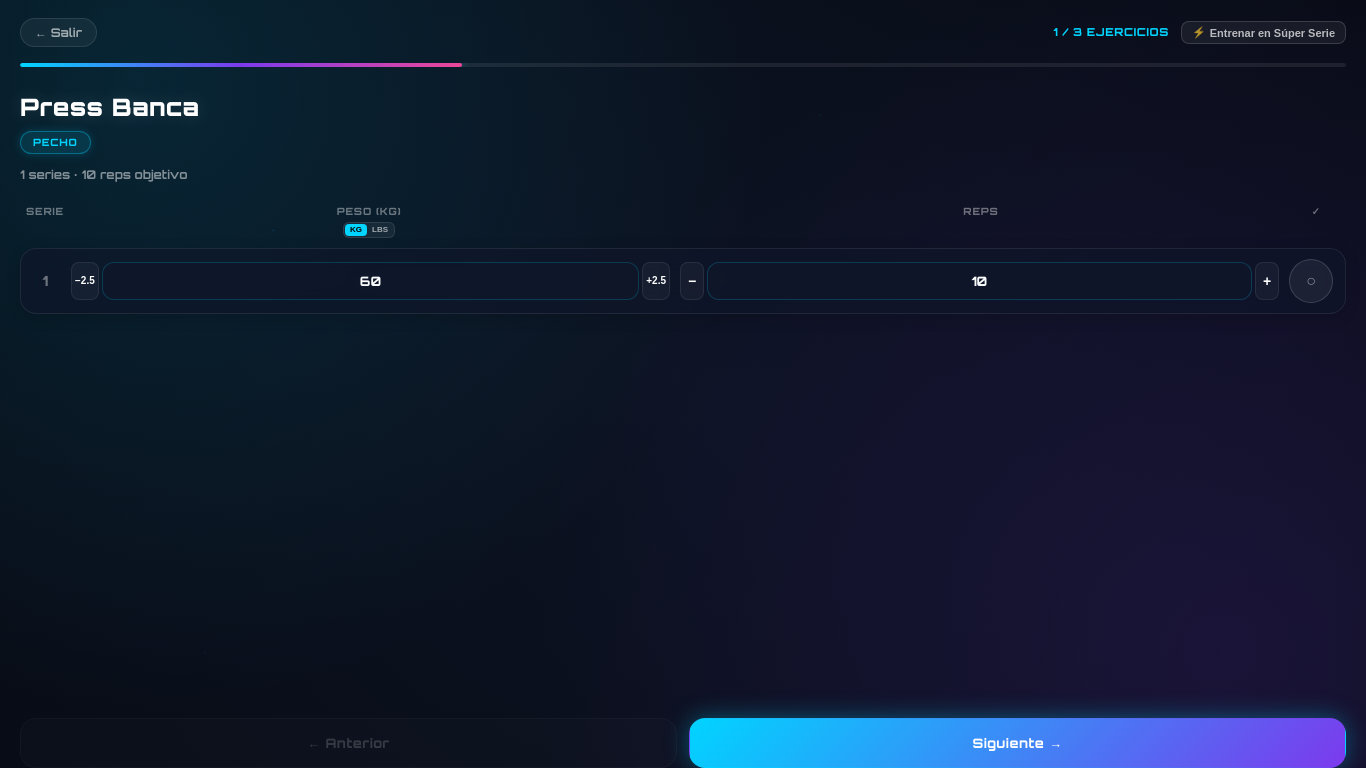
Test: ActiveSession Component › excluye ejercicios completados del checklist del modal de Súper Serie
// Completar la única serie del primer ejercicio (Press Banca)
Click the button named "Marcar serie 1 como completada". click: [1311, 281]
box: [1289,259,1333,303]
(page scrolled)
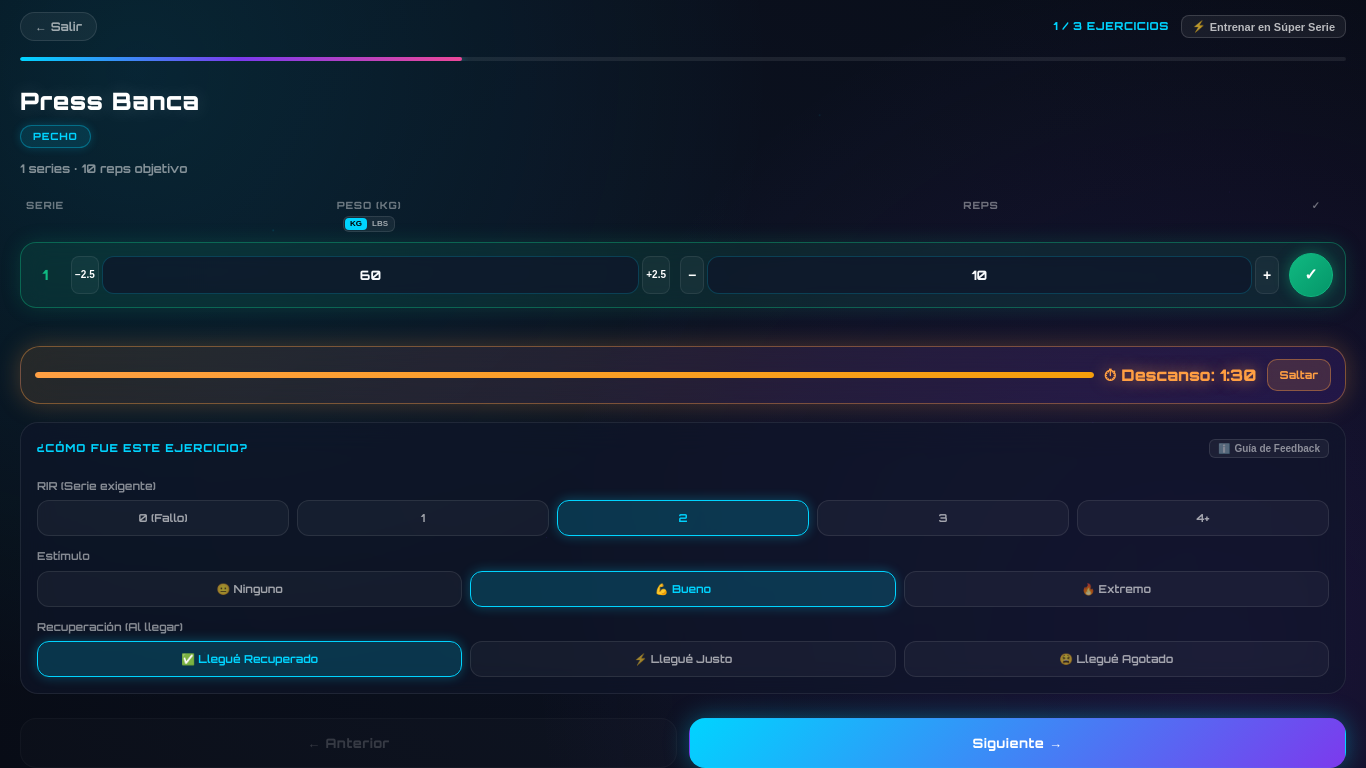
// Avanzar al segundo ejercicio (Aperturas)
Click the button "Siguiente →". click: [1018, 743]
box: [689,718,1346,767]
(page scrolled)
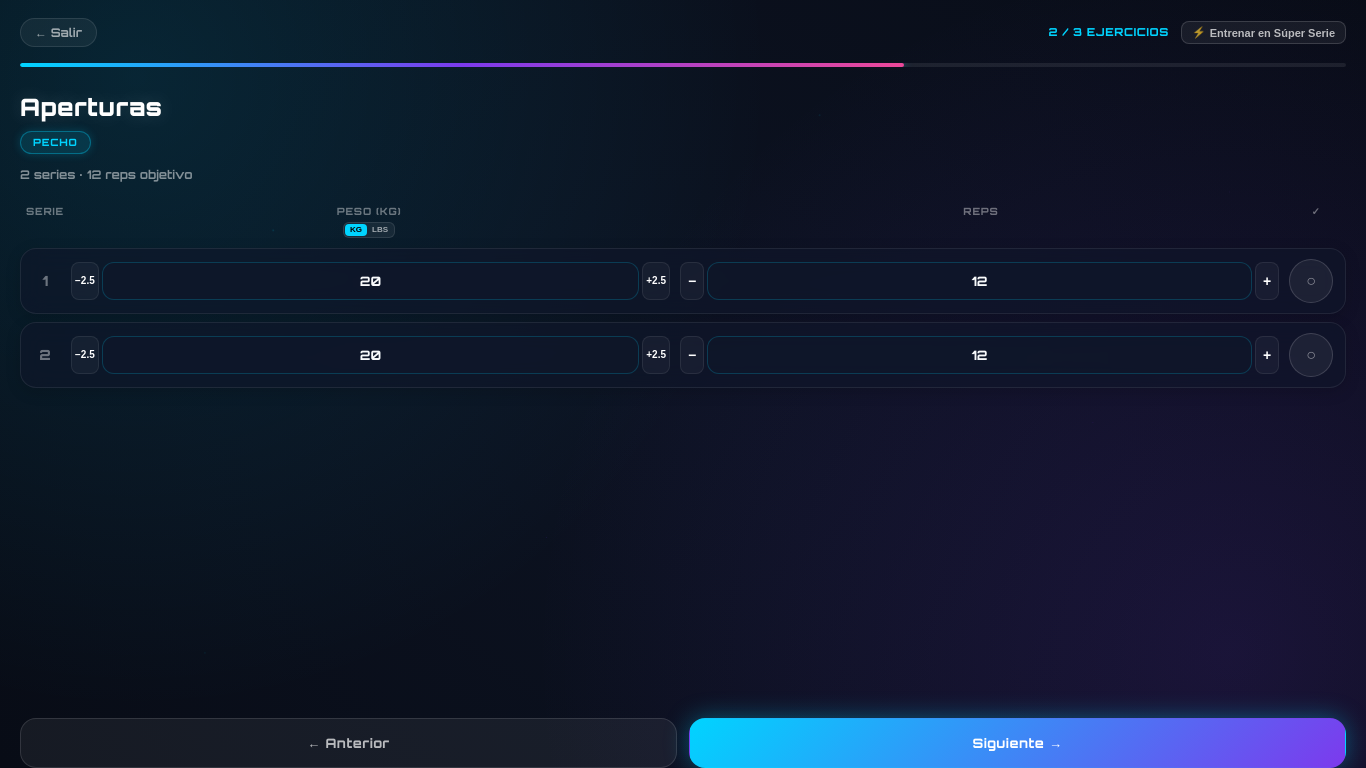
Result: the heading "Aperturas" is shown at [20,92,163,122]
// Abrir el modal de Súper Serie
Click the button titled "Entrenar en Súper Serie (Agrupar ejercicios para alternar series)". click: [1264, 32]
box: [1181,21,1346,44]
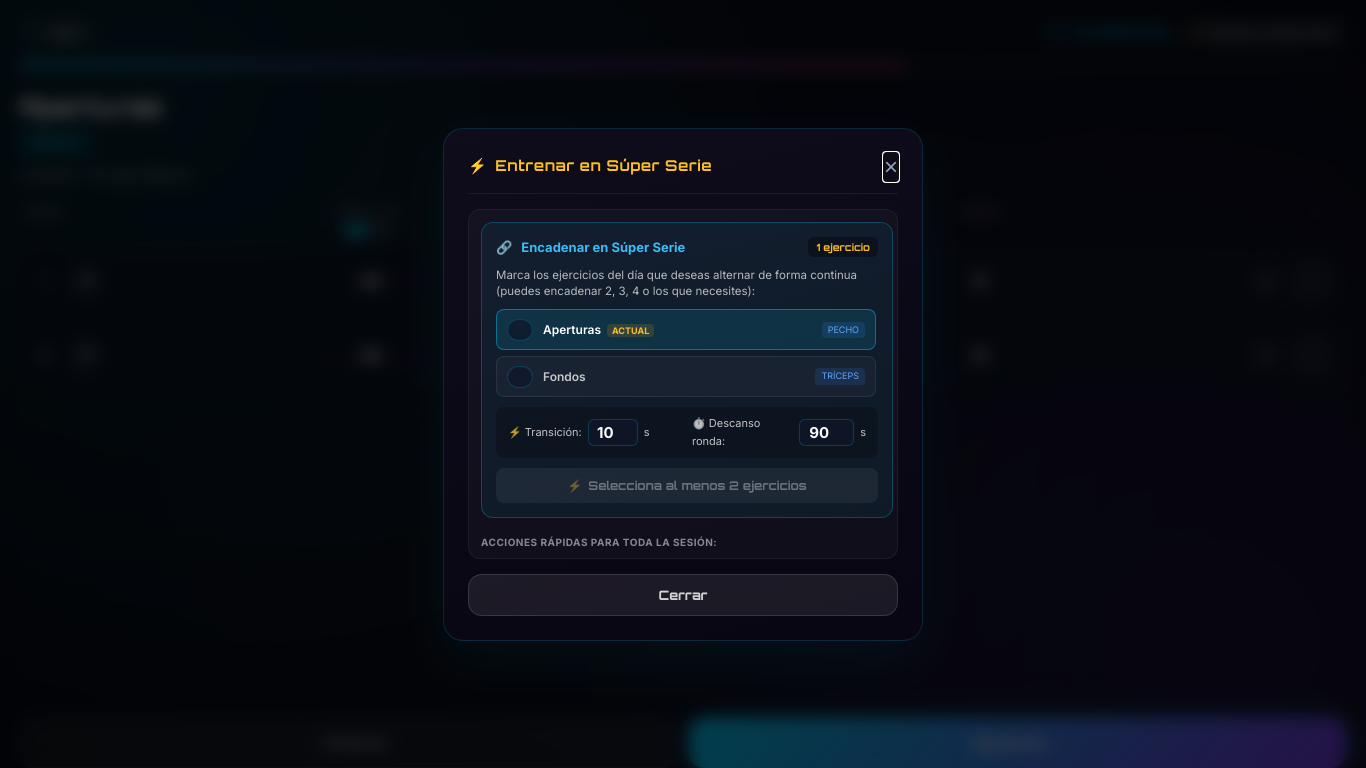
Expected: the heading "Press Banca" does not show "Press Banca"
Result: the dialog is shown at [443,128,923,640]
Result: the text "Fondos" is shown at [543,369,586,384]
